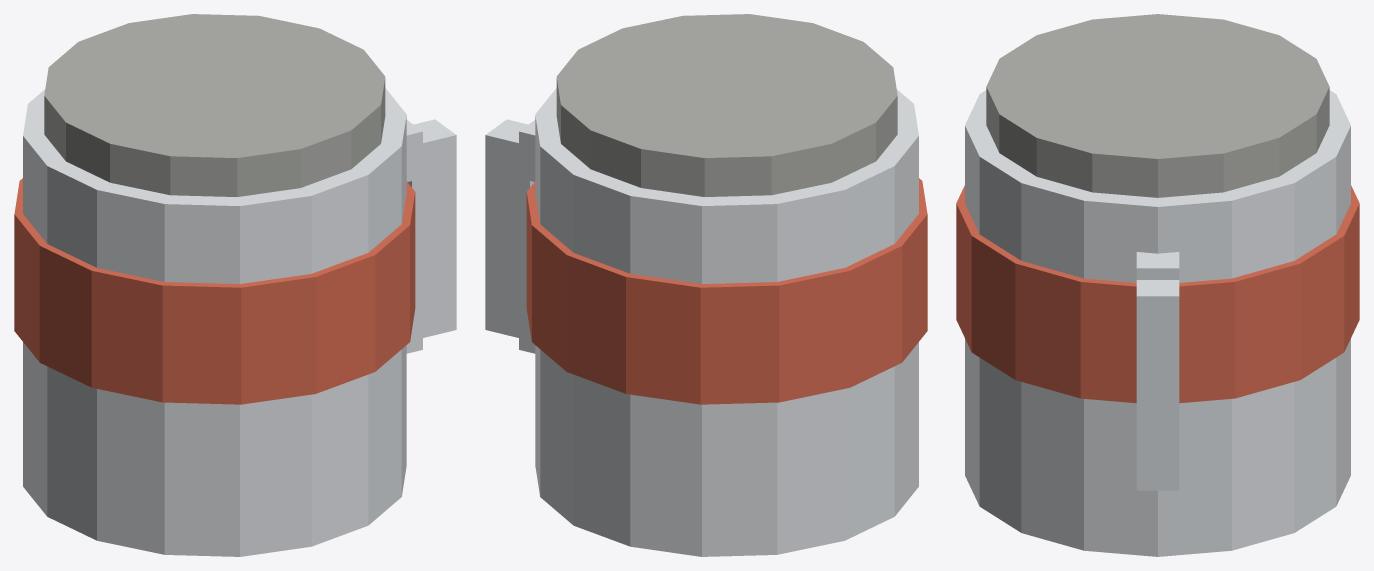
The model's file is enamel_mug.glb.
3 views of the same model, side by side, from view 1: azimuth 30°, elevation 25°; view 2: azimuth 150°, elevation 25°; view 3: azimuth 270°, elevation 25° (orthographic).
Parts seen in each view (by area): view 1: enamel_mug; view 2: enamel_mug; view 3: enamel_mug.
Part boxes in pixels (<box>): enamel_mug: <box>14,14,456,556</box>; enamel_mug: <box>485,14,927,556</box>; enamel_mug: <box>956,14,1359,556</box>.
Bounding box in the file's own units: 0.109 × 0.1 × 0.094.
